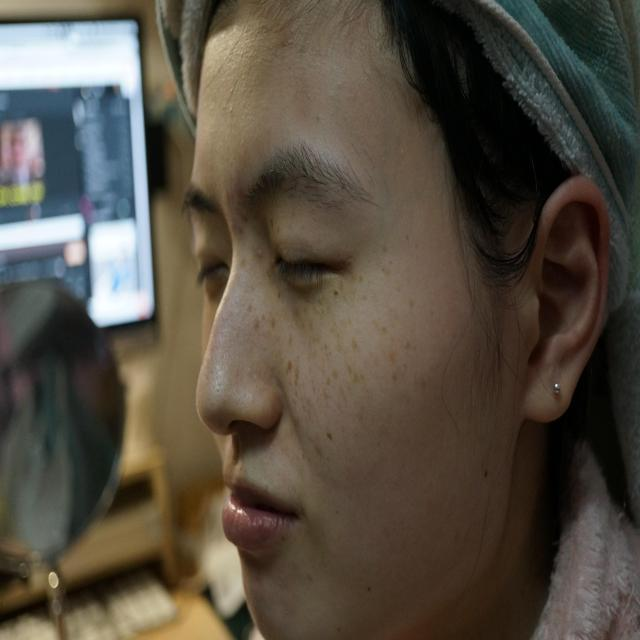acne: (223, 205, 252, 242), (230, 174, 248, 201)
